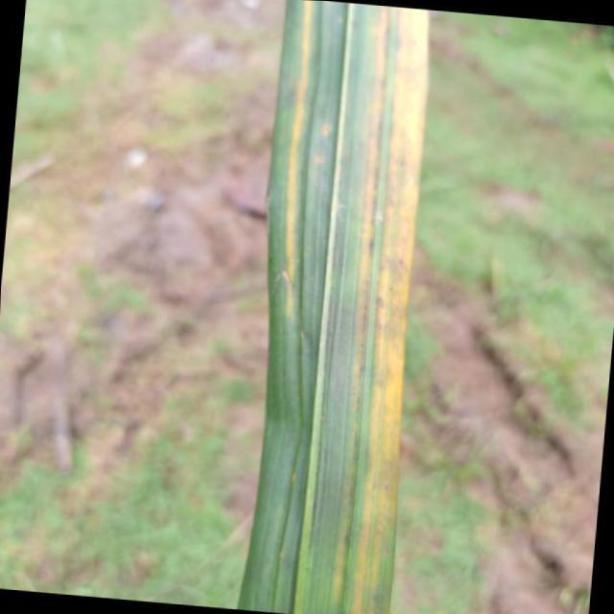Megnesium: (240, 0, 433, 614)
